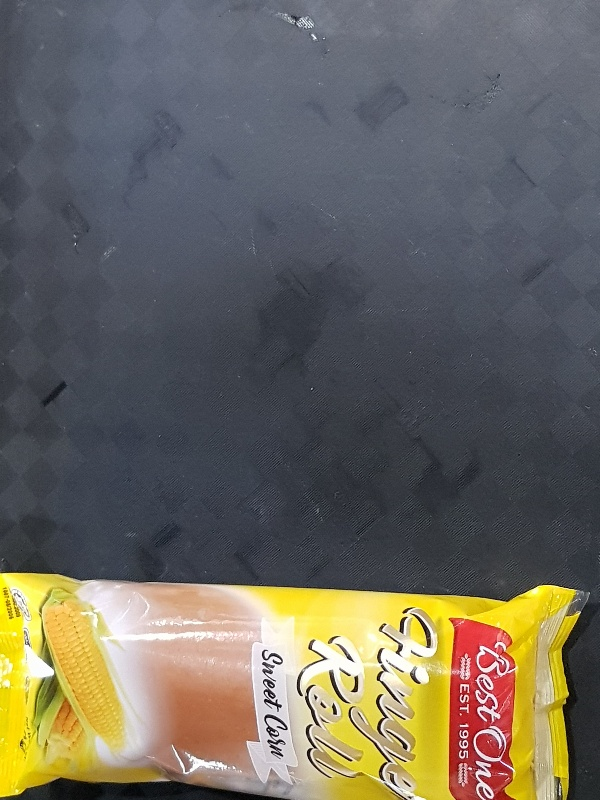Tinges Roll Sweet Corn: (1, 566, 588, 800)
